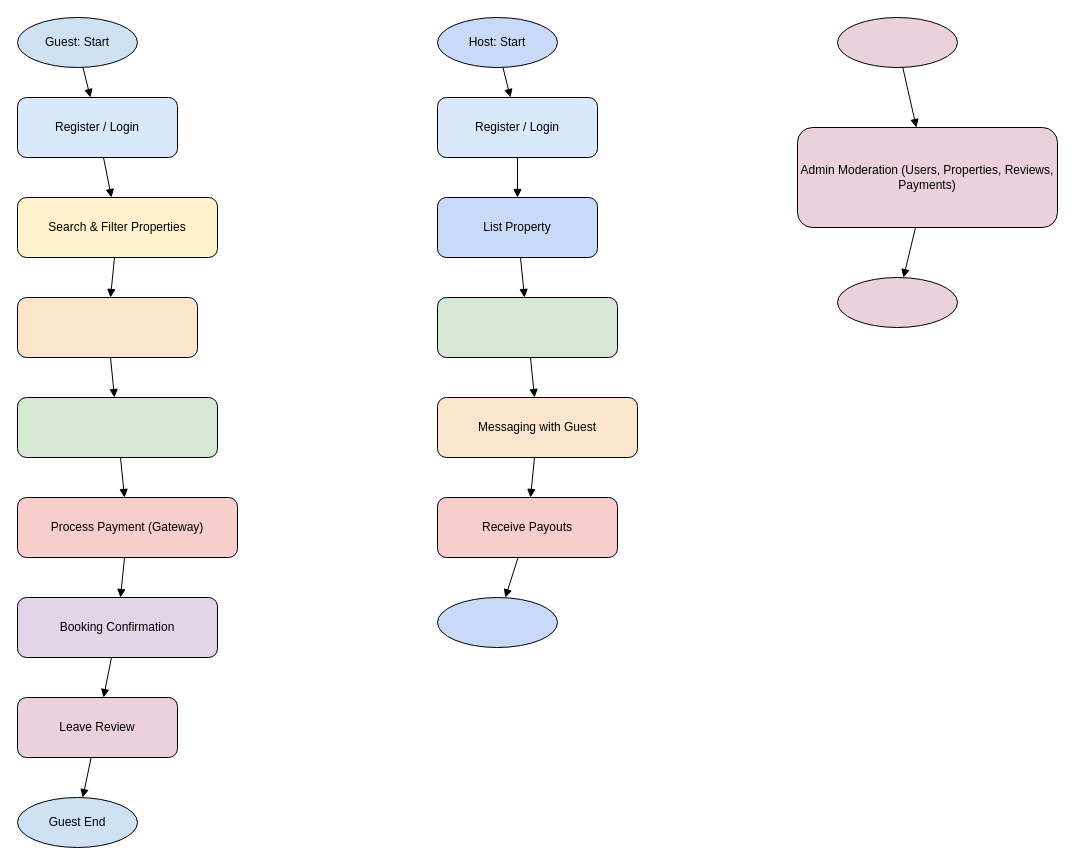
The diagram is 1075 pixels wide and 865 high, and some of its shapes have lost their labels. The shapes that lost their labels are listed below. From the top down, each one's centre as x and y in pixels, then its label:
At [897,42]: "Admin: Start".
At [897,302]: "Admin End".
At [107,327]: "View Property Details".
At [527,327]: "Manage Bookings".
At [117,427]: "Make Booking Request".
At [497,622]: "Host End".
